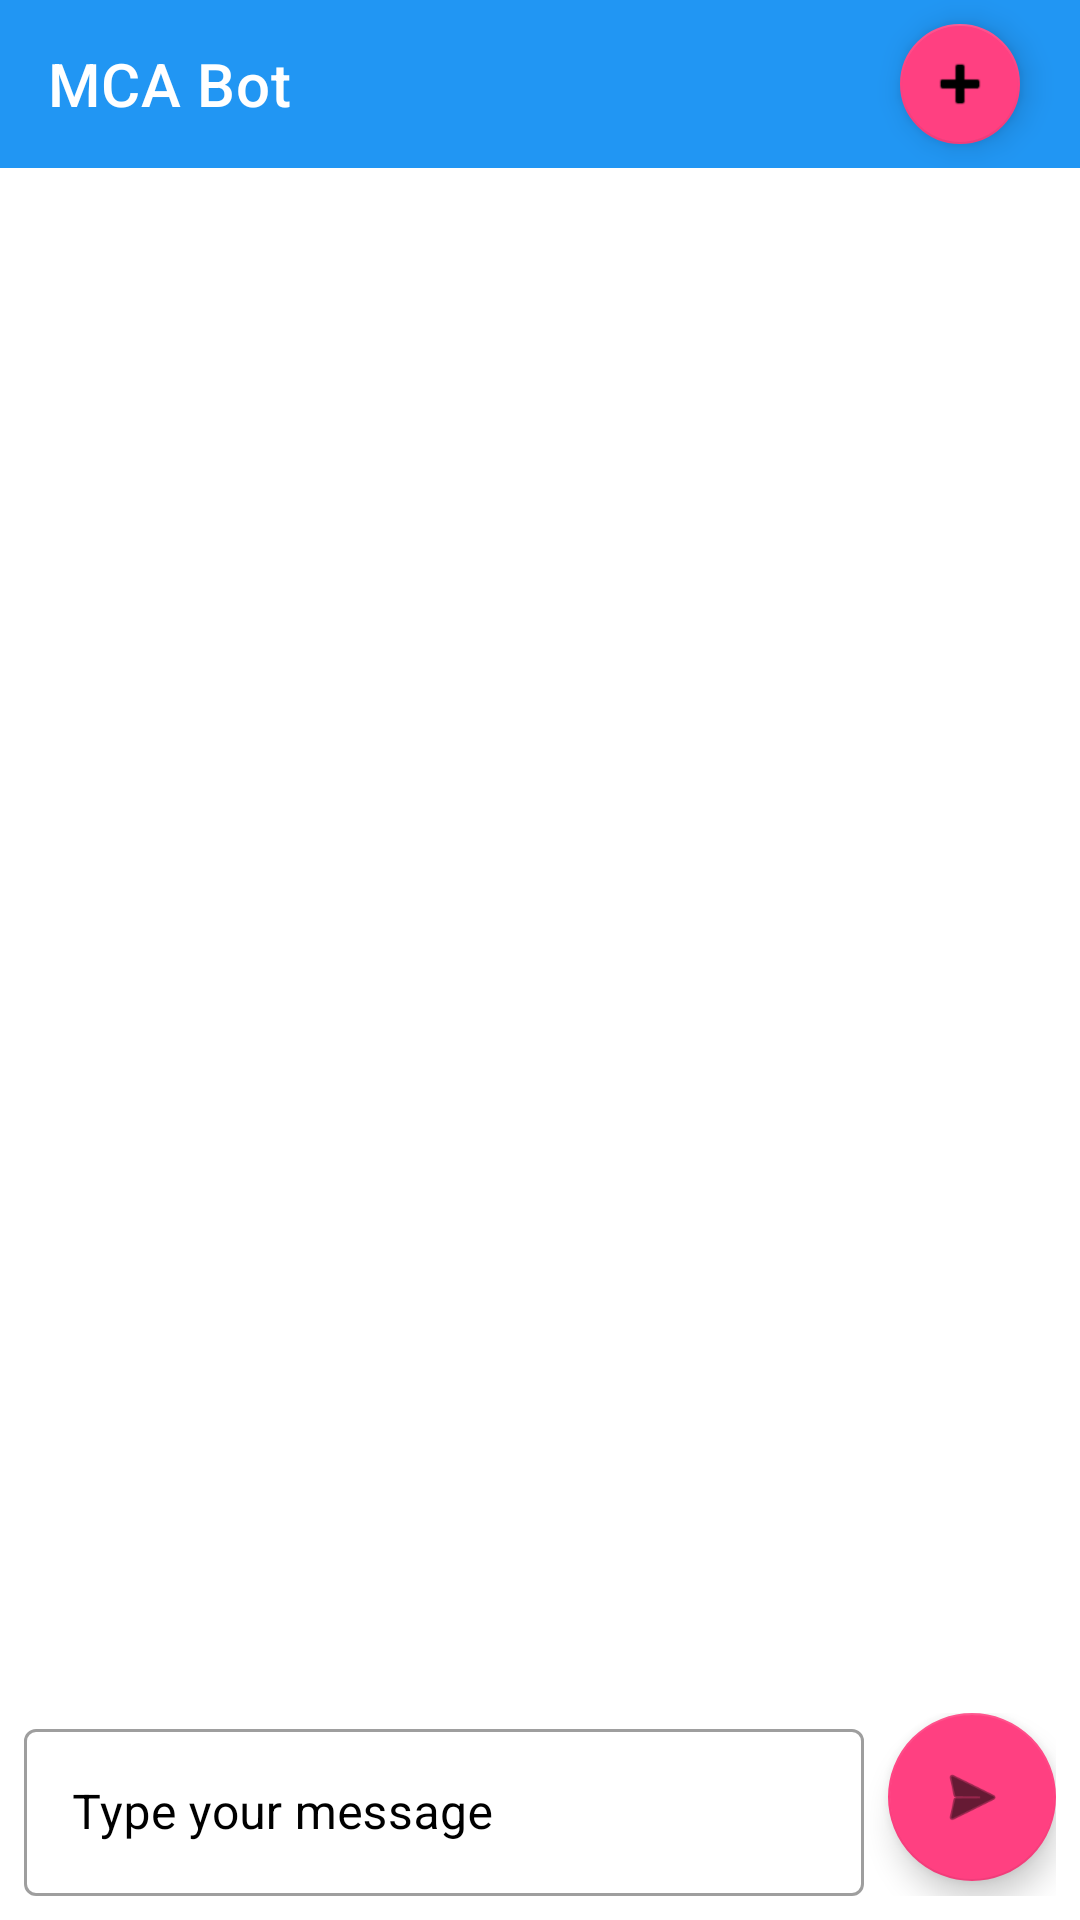

Locate icon controls on the screen. Image size 1080 x 1920, boxes as (x1, y1, x2, y2).
Send: (888, 1713, 1056, 1881)
